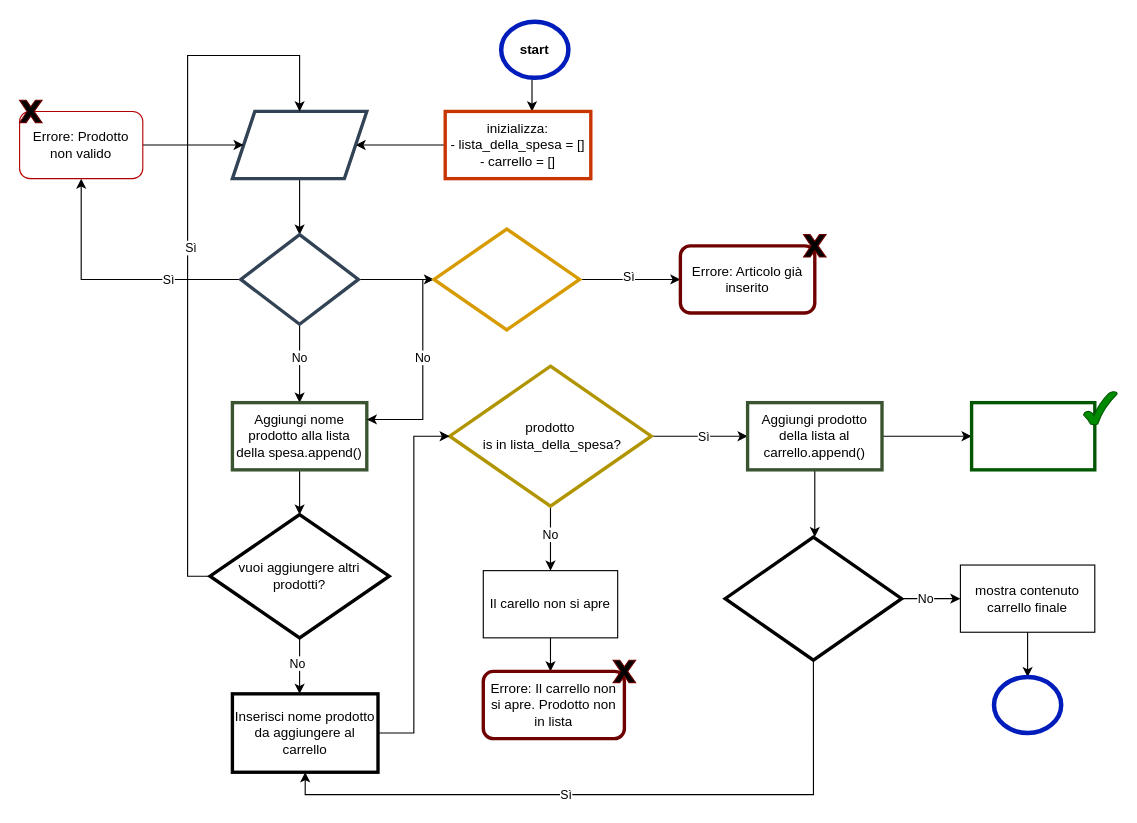
This 1137x823 diagram has some shape labels left out. The shapes that lost their labels are listed below. From the top down, each one's box as (x1, y1, x2, y2) in pixels, then its label:
(230, 109, 368, 180): input = inserisci nome prodotto
(239, 232, 360, 325): input vuoto ? ?
(432, 227, 581, 331): prodotto già inserito?
(969, 400, 1096, 471): Articolo aggiunto correttamente!
(723, 535, 903, 661): vuoi continuare a fare spesa?
(991, 674, 1063, 735): end
